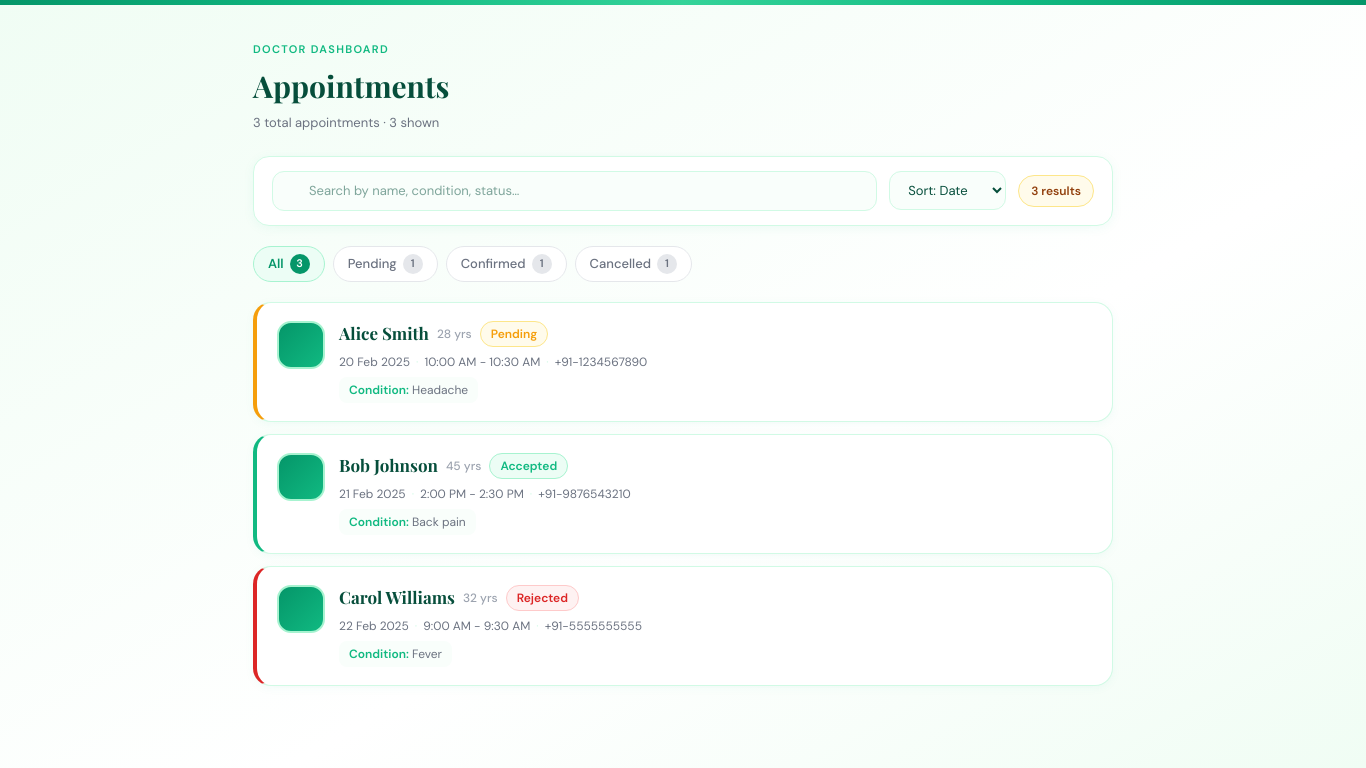
Test: AppointmentsTab Component › Status Pill Filtering › filters to show only confirmed appointments
Click the button "Confirmed 1".
click(506, 264)  # box [446,246,567,282]
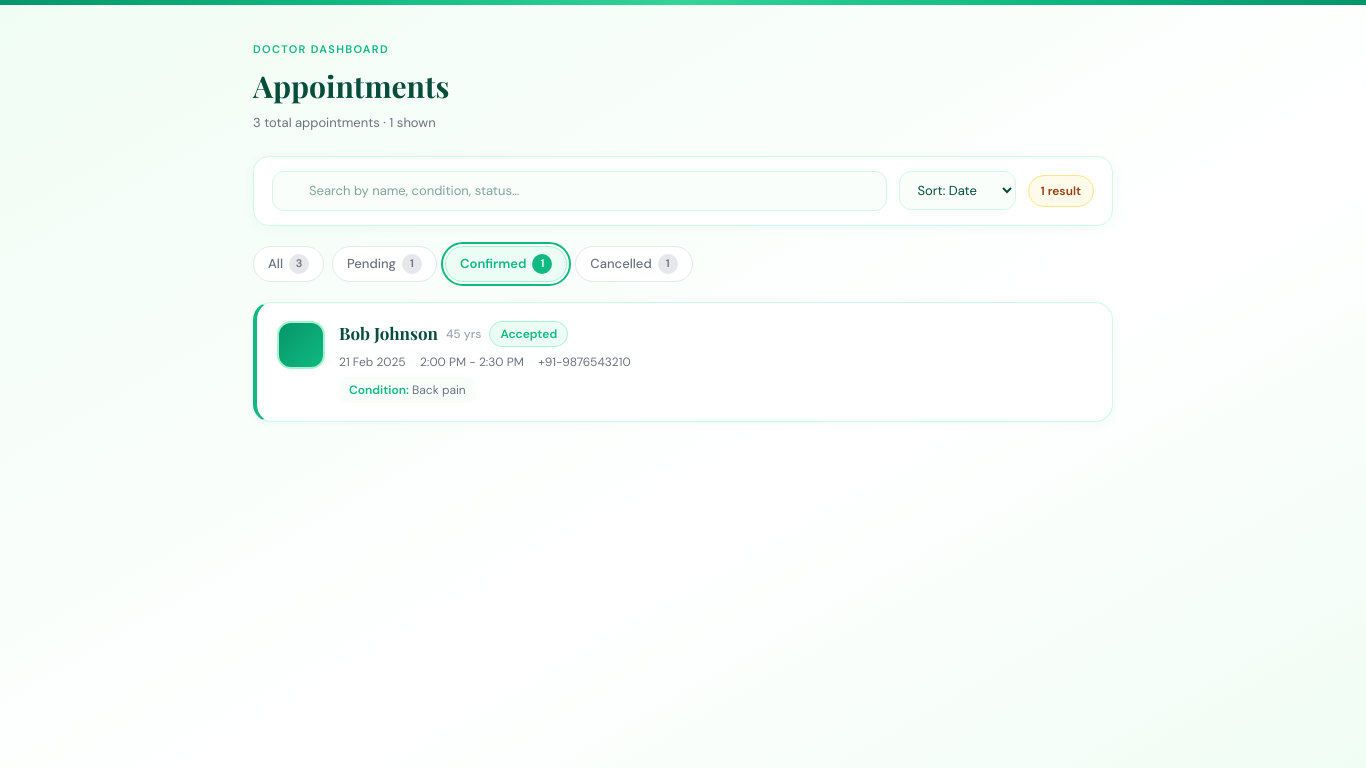
Expected: the text "Bob Johnson" is shown, [339,321,438,346]
Expected: the text "Alice Smith" is gone
Expected: the text "Carol Williams" is gone
